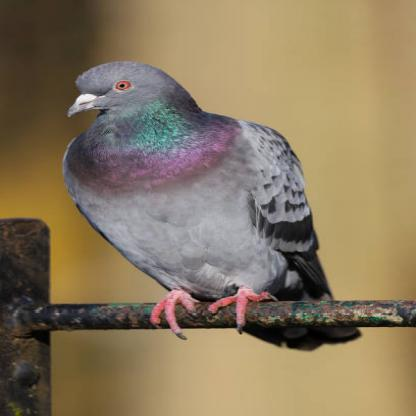Rock Pigeon: (58, 61, 337, 301)
